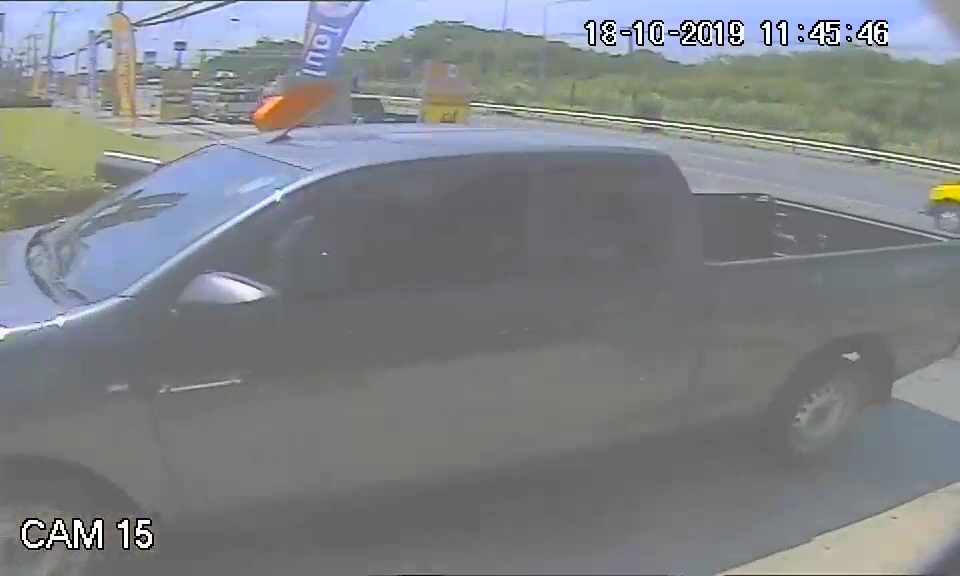pickup: (6, 126, 943, 513)
